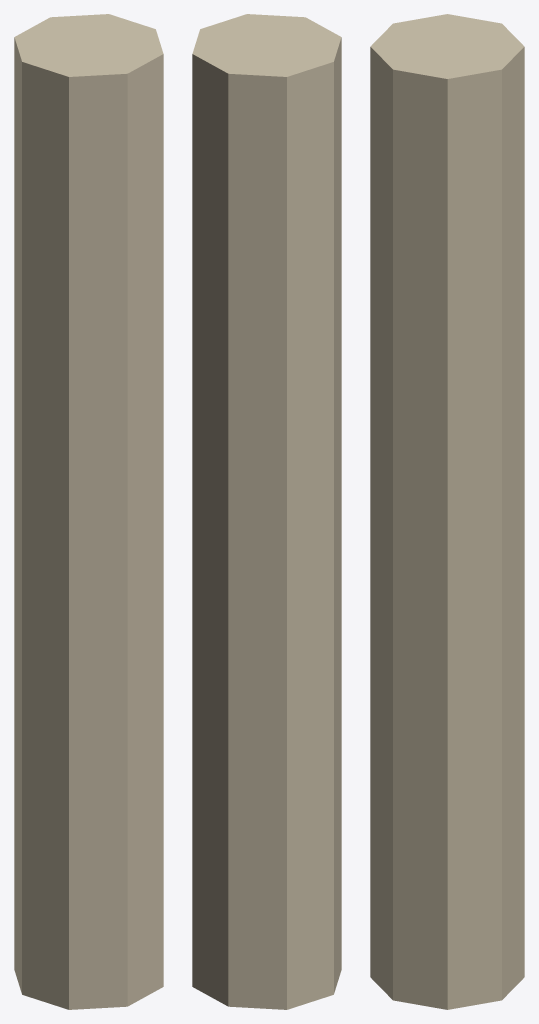
File: waterfront-column.lod2.glb
The picture shows the model from 3 angles, left to right: view 1: azimuth 30°, elevation 25°; view 2: azimuth 150°, elevation 25°; view 3: azimuth 270°, elevation 25°; orthographic projection.
Parts seen in each view (by area): view 1: waterfront-column; view 2: waterfront-column; view 3: waterfront-column.
Part boxes in pixels (x1,y1,x2,y2): waterfront-column: (14, 14, 163, 1009); waterfront-column: (192, 14, 341, 1009); waterfront-column: (370, 14, 524, 1009).
Bounding box in the file's own units: 1.2 × 8 × 1.2.
